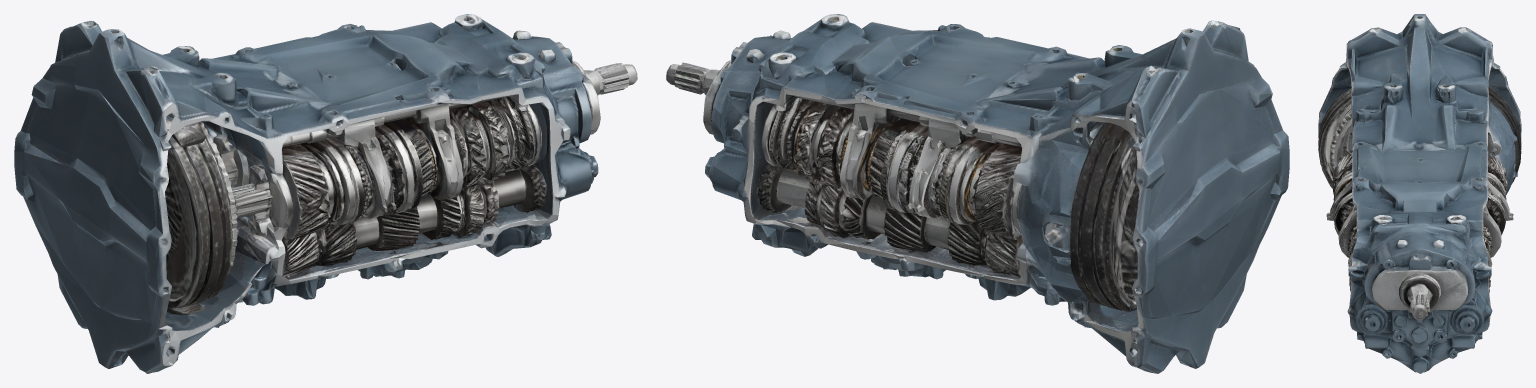
The model's file is gearbox.glb.
3 views of the same model, side by side, from view 1: azimuth 30°, elevation 25°; view 2: azimuth 150°, elevation 25°; view 3: azimuth 270°, elevation 25° (orthographic). The views are drawn at different scales.
Parts seen in each view (by area): view 1: Mesh_0; view 2: Mesh_0; view 3: Mesh_0.
Boxes of the visible parts, x1,y1,x2,y2 form: Mesh_0: (14,14,637,373); Mesh_0: (666,14,1289,373); Mesh_0: (1318,14,1521,373).
Size of the model in its own units: 1.9 by 1.1 by 0.8645.
1 material, 1 textured.
